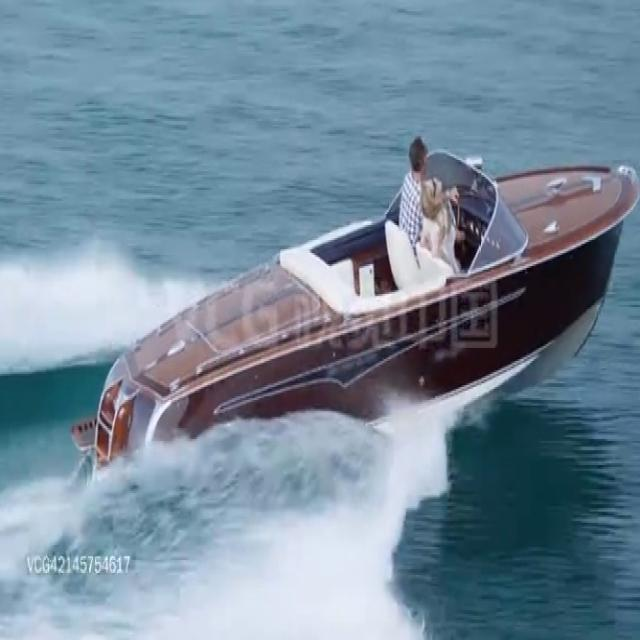houseboat: (78, 128, 634, 484)
